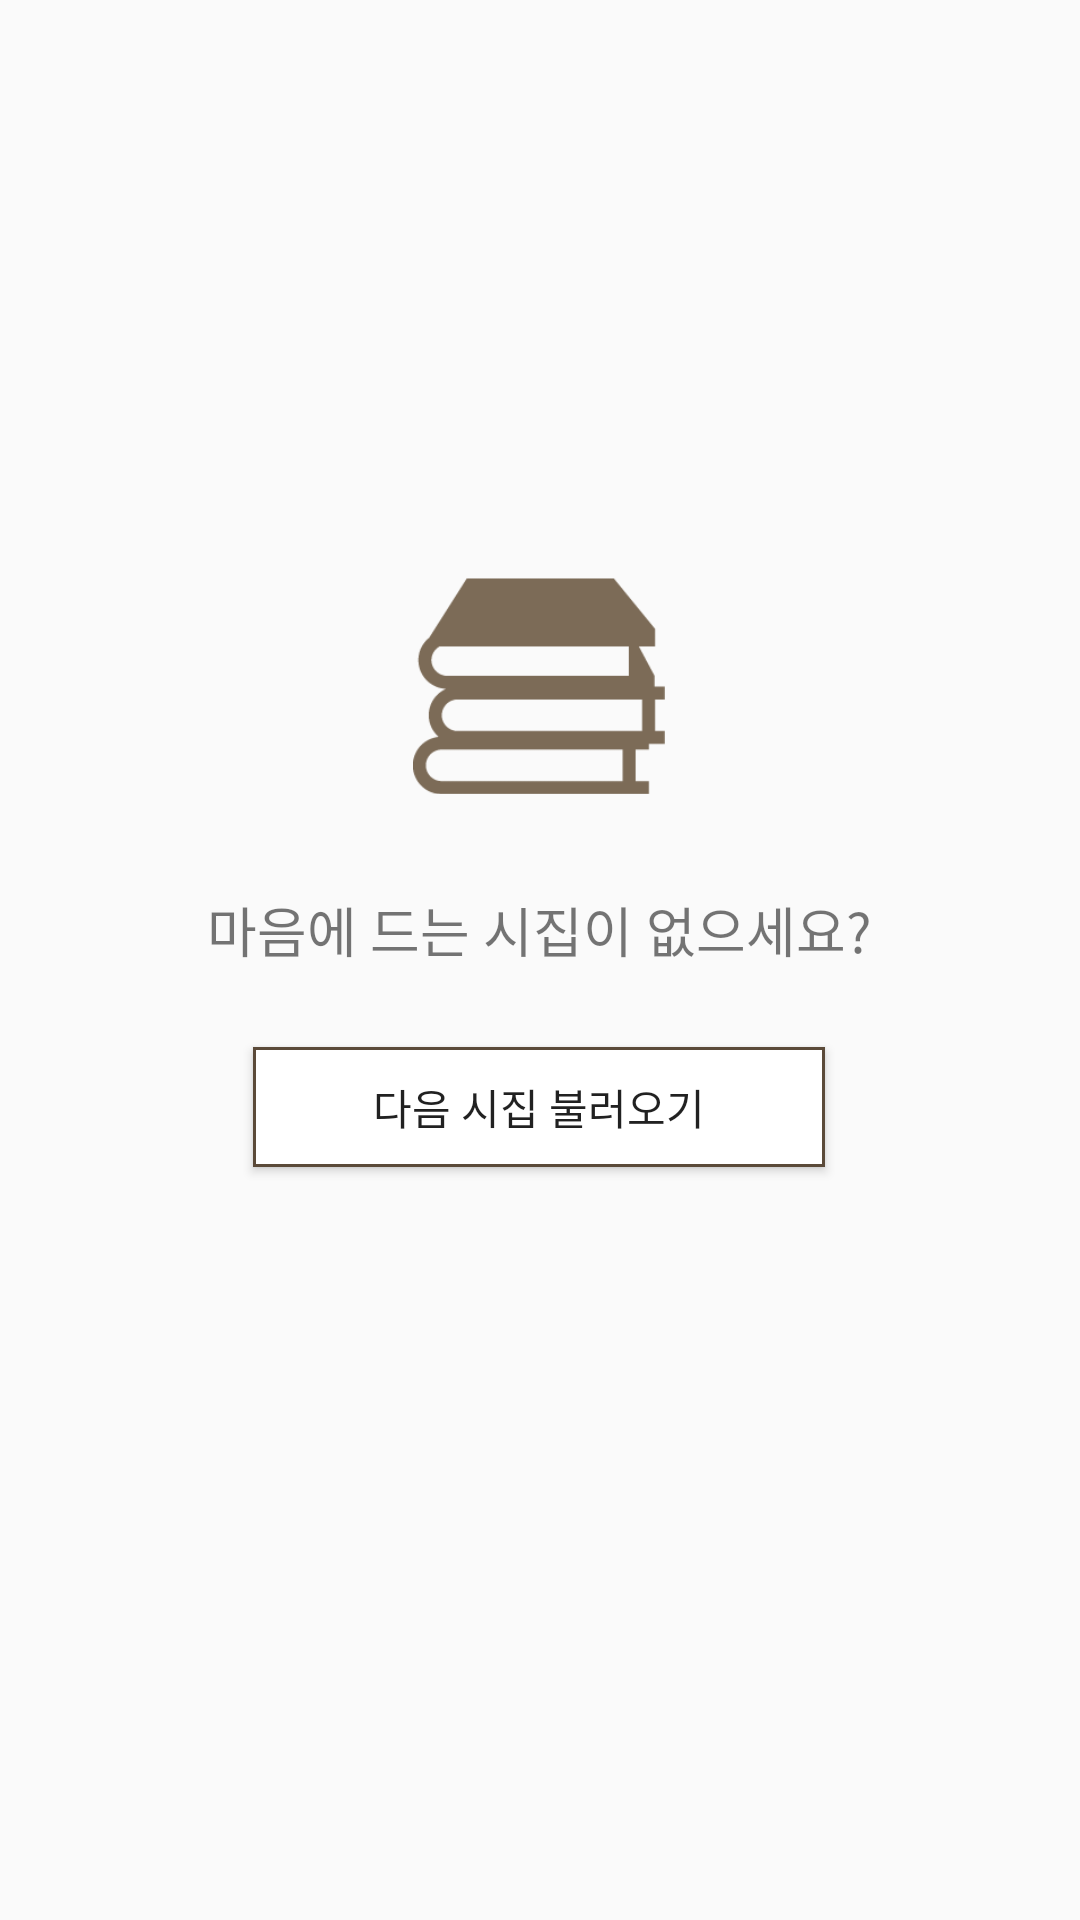

Icons on this 1080w x 1920h Android screen, each with the point to tap as [x,y]:
books: [539,686]
